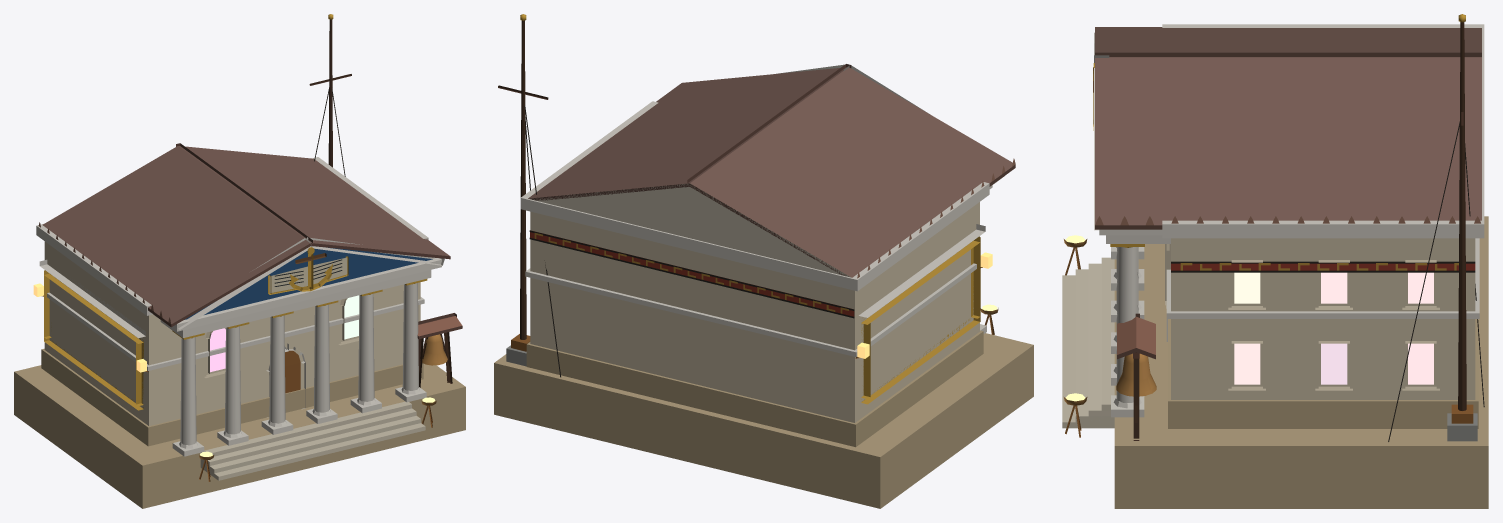
Rendered from registry.glb.
3 renders of one model, left to right at view 1: azimuth 30°, elevation 25°; view 2: azimuth 150°, elevation 25°; view 3: azimuth 270°, elevation 25°, orthographic. The views are drawn at different scales.
Visible parts, largest first — view 1: registry_body, registry_body_windows; view 2: registry_body; view 3: registry_body, registry_body_windows.
Boxes of the visible parts, x1,y1,x2,y2 form: registry_body: [14, 14, 465, 508]; registry_body_windows: [210, 295, 359, 372]; registry_body: [494, 14, 1033, 508]; registry_body: [1062, 14, 1488, 508]; registry_body_windows: [1234, 272, 1433, 384].
Bounding box in the file's own units: 25.4 × 24.57 × 19.6.
